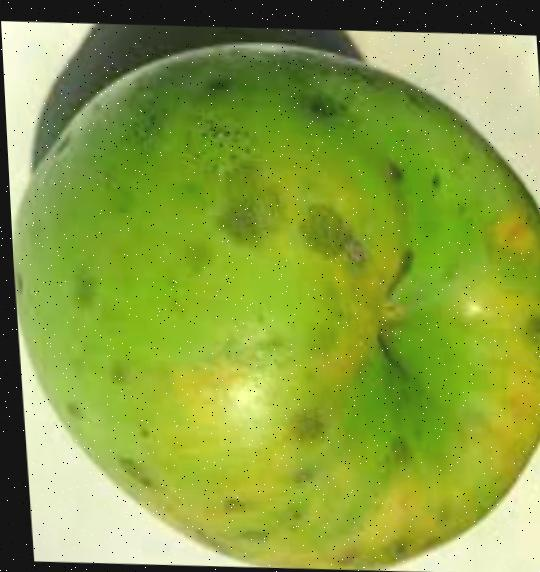BLOTCH: (1, 14, 540, 572)
